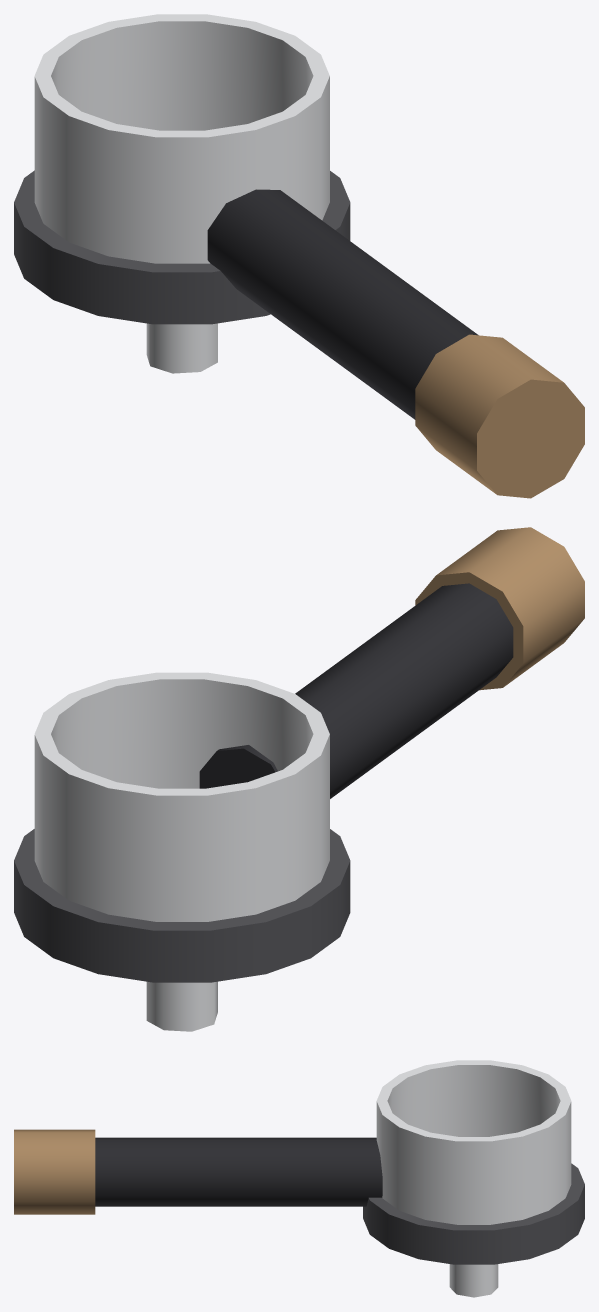
The model's file is Portafilter.glb.
3 renders of one model, top to bottom at view 1: azimuth 30°, elevation 25°; view 2: azimuth 150°, elevation 25°; view 3: azimuth 270°, elevation 25°, orthographic. The views are drawn at different scales.
Parts seen in each view (by area): view 1: Portafilter; view 2: Portafilter; view 3: Portafilter.
Part boxes in pixels (box(x1,y1,x2,y2)): Portafilter: box(14, 14, 584, 498); Portafilter: box(14, 527, 584, 1031); Portafilter: box(14, 1060, 584, 1297).
Size of the model in its own units: 0.0808 by 0.076 by 0.211.
